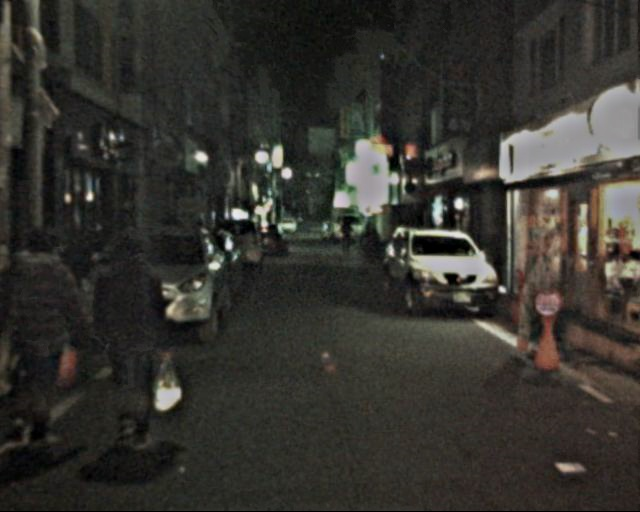person: (86, 225, 181, 459), (338, 213, 358, 259)
